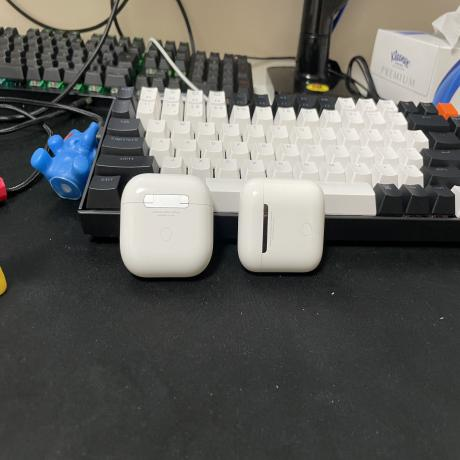airpod2: (236, 172, 327, 278)
airpod3: (116, 165, 218, 281)
